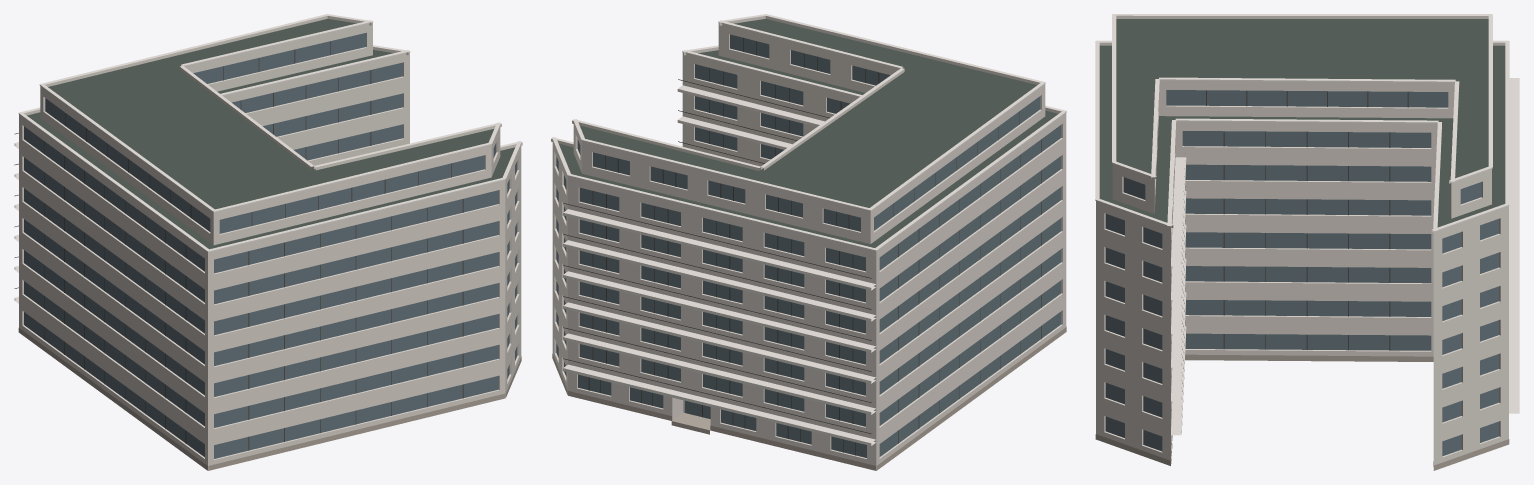
3 views of the same model, side by side, from view 1: azimuth 30°, elevation 25°; view 2: azimuth 150°, elevation 25°; view 3: azimuth 270°, elevation 25° (orthographic). The views are drawn at different scales.
Visible parts, largest first — view 1: ihouseB__wall, ihouseB__glass, ihouseB__roof, ihouseB__trim, ihouseB__parapet, ihouseB__base, ihouseB__frame; view 2: ihouseB__wall, ihouseB__glass, ihouseB__roof, ihouseB__trim, ihouseB__frame, ihouseB__parapet, ihouseB__base; view 3: ihouseB__wall, ihouseB__glass, ihouseB__roof, ihouseB__trim, ihouseB__parapet, ihouseB__base, ihouseB__frame.
Part boxes in pixels (left/top/right/bottom): ihouseB__wall: left=19, top=24, right=521, bottom=470; ihouseB__glass: left=24, top=33, right=517, bottom=458; ihouseB__roof: left=27, top=18, right=514, bottom=249; ihouseB__trim: left=14, top=14, right=522, bottom=303; ihouseB__parapet: left=19, top=16, right=522, bottom=254; ihouseB__base: left=18, top=328, right=521, bottom=470; ihouseB__frame: left=14, top=41, right=463, bottom=450; ihouseB__wall: left=552, top=24, right=1066, bottom=470; ihouseB__glass: left=556, top=34, right=1061, bottom=457; ihouseB__roof: left=559, top=19, right=1058, bottom=470; ihouseB__trim: left=551, top=14, right=1066, bottom=445; ihouseB__frame: left=563, top=37, right=1041, bottom=455; ihouseB__parapet: left=551, top=16, right=1066, bottom=252; ihouseB__base: left=552, top=327, right=1066, bottom=470; ihouseB__wall: left=1096, top=82, right=1508, bottom=470; ihouseB__glass: left=1105, top=90, right=1498, bottom=456; ihouseB__roof: left=1099, top=19, right=1505, bottom=361; ihouseB__trim: left=1095, top=14, right=1519, bottom=435; ihouseB__parapet: left=1096, top=15, right=1508, bottom=233; ihouseB__base: left=1095, top=354, right=1509, bottom=470; ihouseB__frame: left=1181, top=90, right=1408, bottom=414.
Size of the model in its own units: 37.48 by 25.5 by 35.3.
